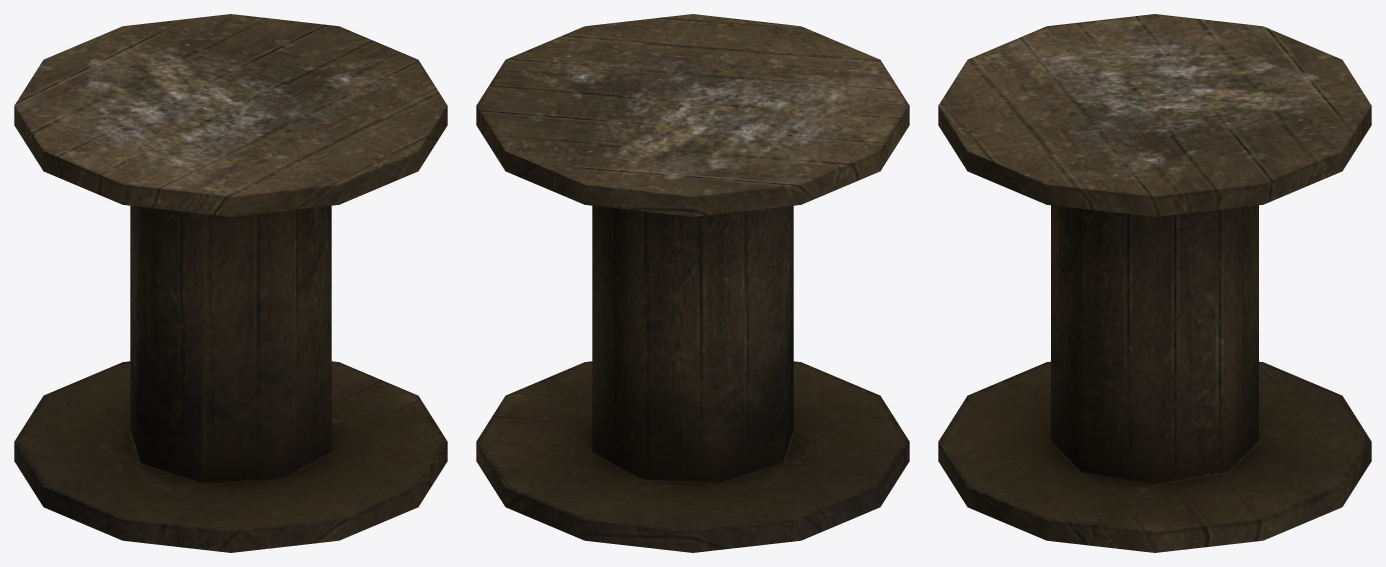
The model's file is CargoProp.FBX.
3 renders of one model, left to right at view 1: azimuth 30°, elevation 25°; view 2: azimuth 150°, elevation 25°; view 3: azimuth 270°, elevation 25°, orthographic.
Visible parts, largest first — view 1: CargoProp; view 2: CargoProp; view 3: CargoProp.
Boxes of the visible parts, <box> form: CargoProp: <box>14,14,447,552</box>; CargoProp: <box>476,14,909,552</box>; CargoProp: <box>938,14,1371,552</box>.
Size of the model in its own units: 98.19 by 89.06 by 98.19.
